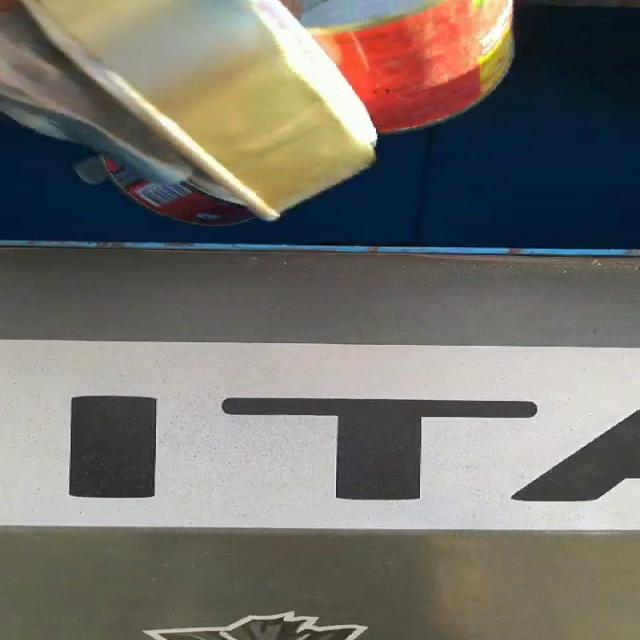bin: (0, 6, 638, 251), (0, 528, 639, 640), (0, 249, 637, 350)
metal: (0, 0, 513, 224)
